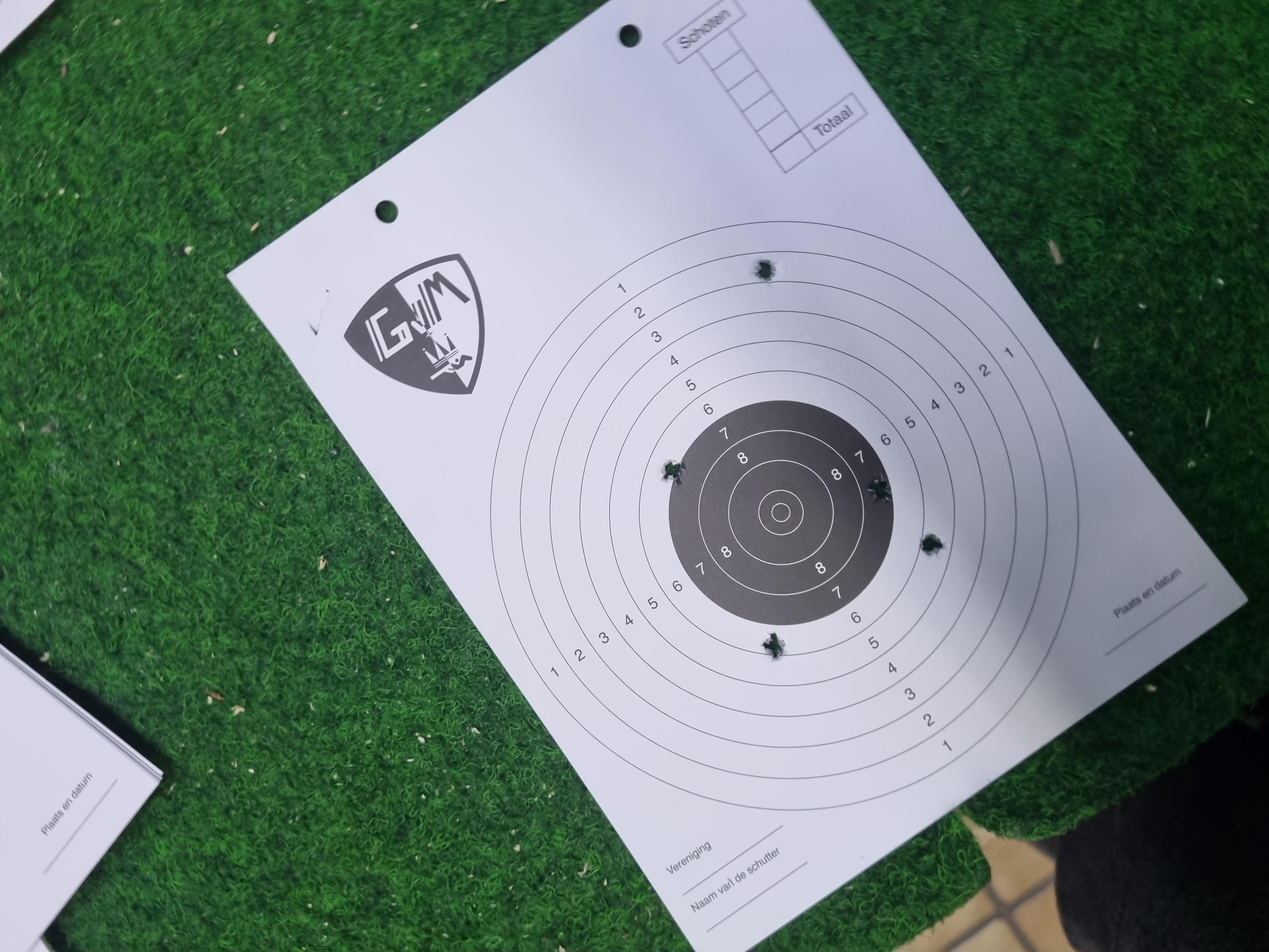hole: (620, 495, 657, 515), (386, 572, 426, 590), (600, 650, 636, 670), (889, 565, 924, 583), (527, 690, 558, 709)
